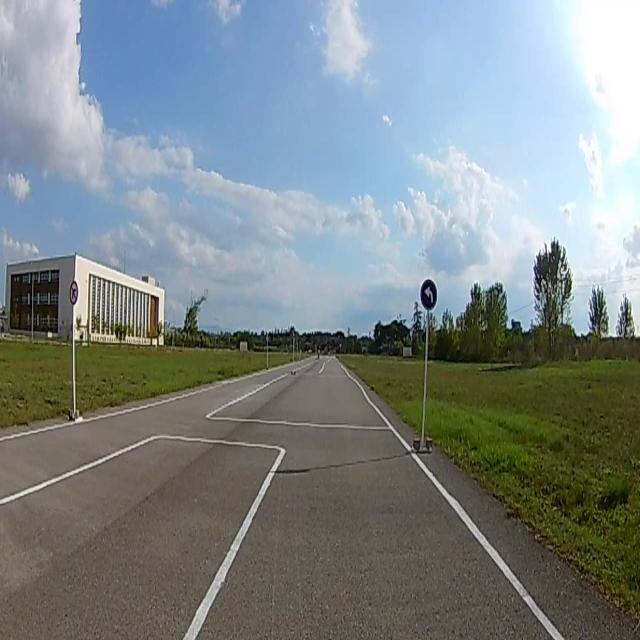sagadonulmez: (70, 281, 78, 303)
sol: (422, 282, 436, 306)
